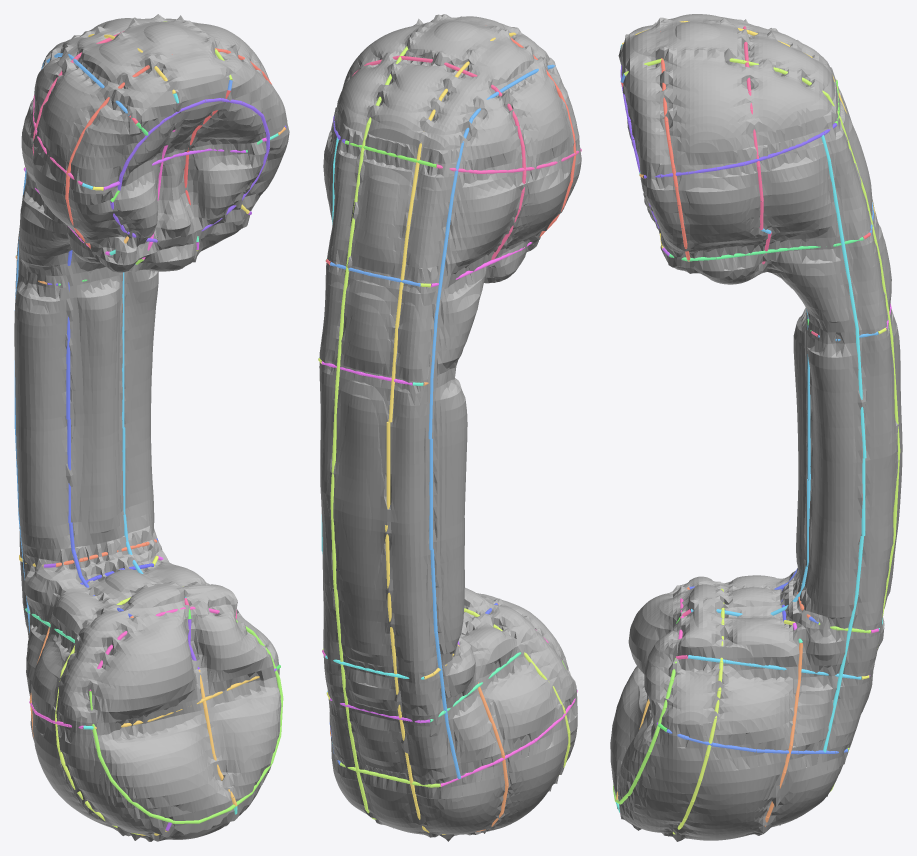
The model's file is flowrep_phone.gltf.
The picture shows the model from 3 angles, left to right: view 1: azimuth 30°, elevation 25°; view 2: azimuth 150°, elevation 25°; view 3: azimuth 270°, elevation 25°; orthographic projection.
Bounding box in the file's own units: 0.2745 × 0.9367 × 0.3092.
